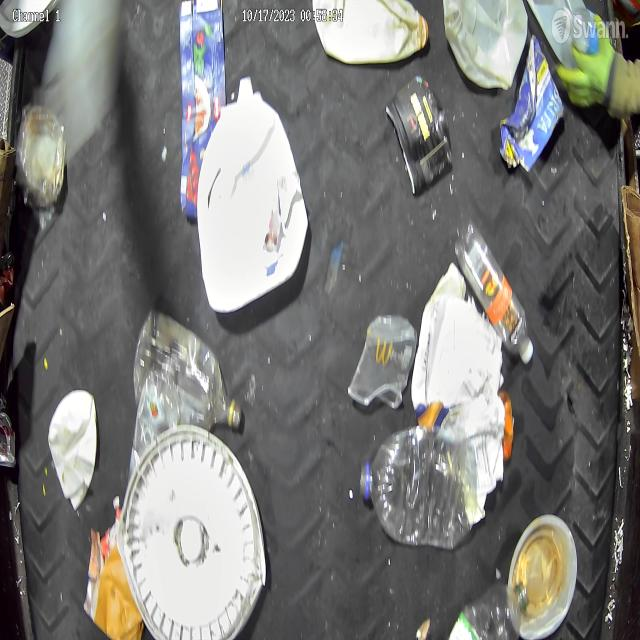can: (0, 411, 17, 468)
milk_jug: (198, 85, 307, 319), (442, 0, 528, 93), (315, 0, 431, 66), (48, 388, 98, 511), (528, 0, 598, 65)
plastic_bottle: (361, 422, 493, 548), (135, 311, 244, 431), (457, 222, 532, 361), (443, 581, 525, 639)
